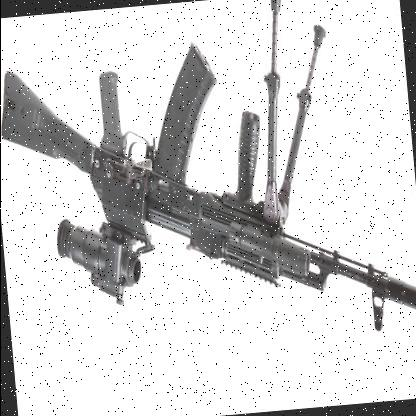rifle: (1, 26, 416, 382)
